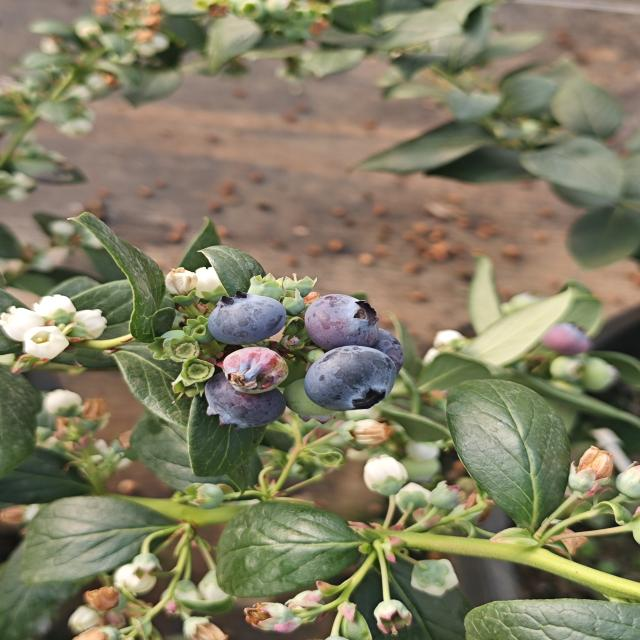ripe: (300, 344, 410, 413), (196, 368, 291, 430), (301, 282, 384, 351), (202, 288, 290, 347), (324, 325, 408, 379)
